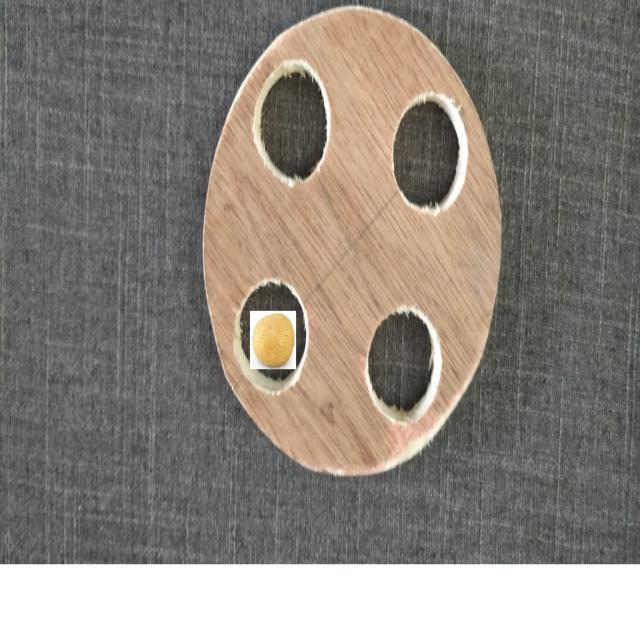potato: (252, 316, 294, 368)
